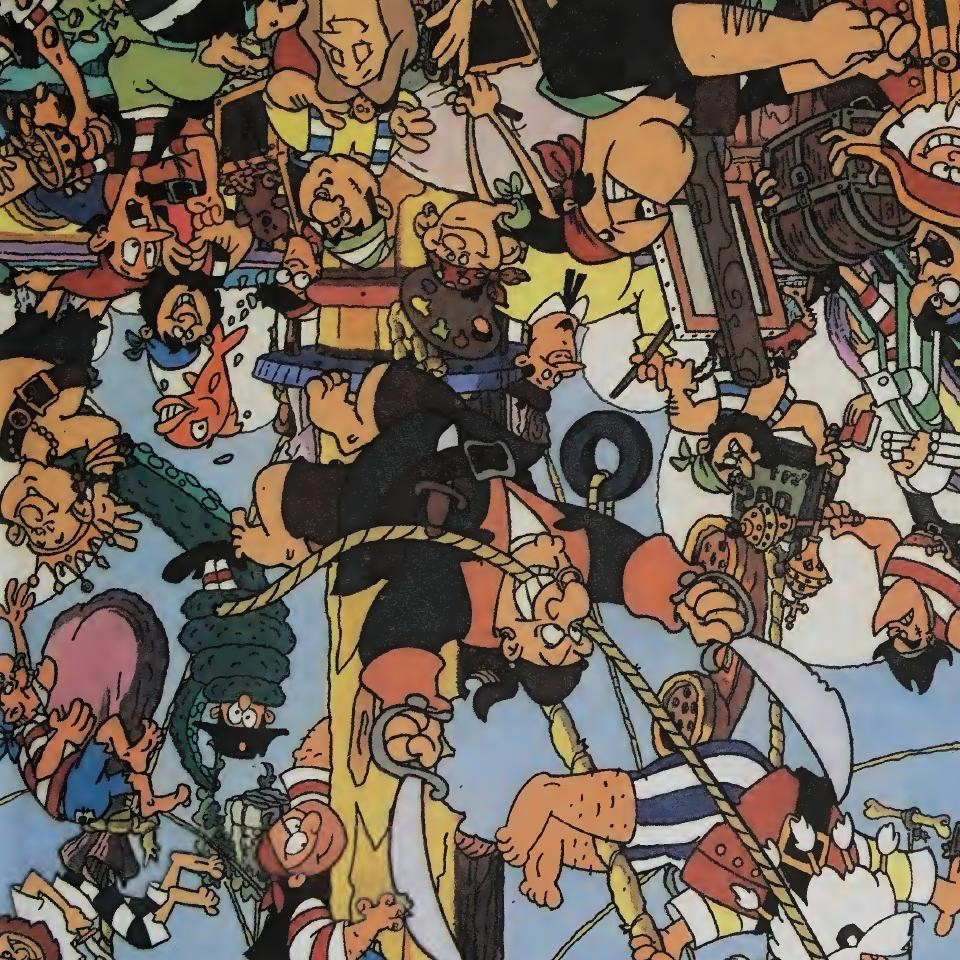waldo: (260, 240, 322, 320)
